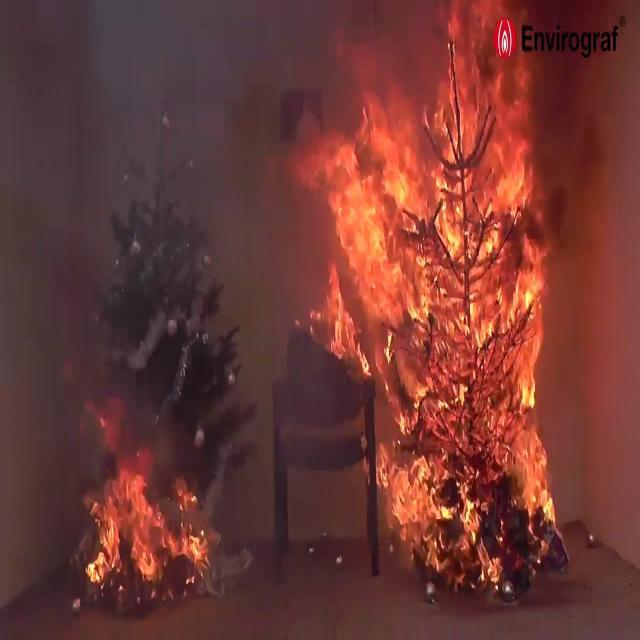Fire: (295, 54, 565, 566), (53, 438, 213, 608)
Smoke: (0, 6, 326, 538), (544, 49, 640, 515)
